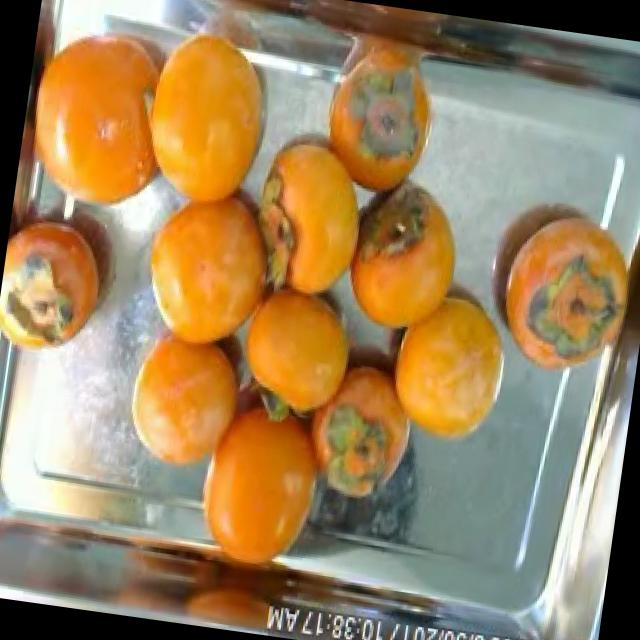Fruit: (300, 21, 454, 218), (329, 160, 482, 357), (107, 294, 260, 491), (373, 286, 522, 460)
